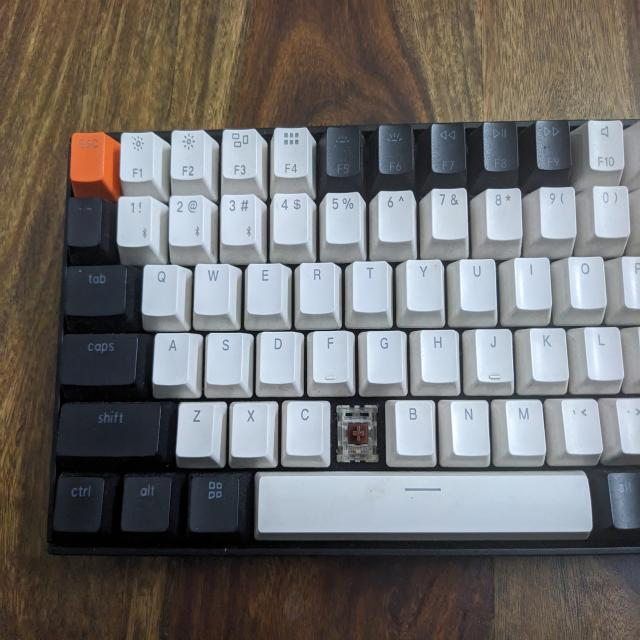C: (338, 408, 378, 457)
